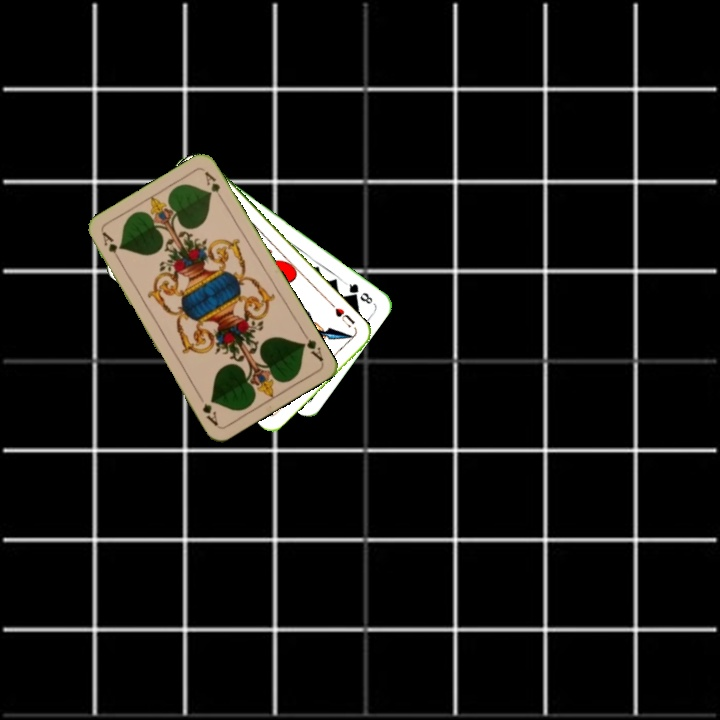G8: (341, 278, 375, 307)
GA: (297, 328, 326, 364), (98, 228, 124, 265)
HU: (331, 304, 358, 330)
